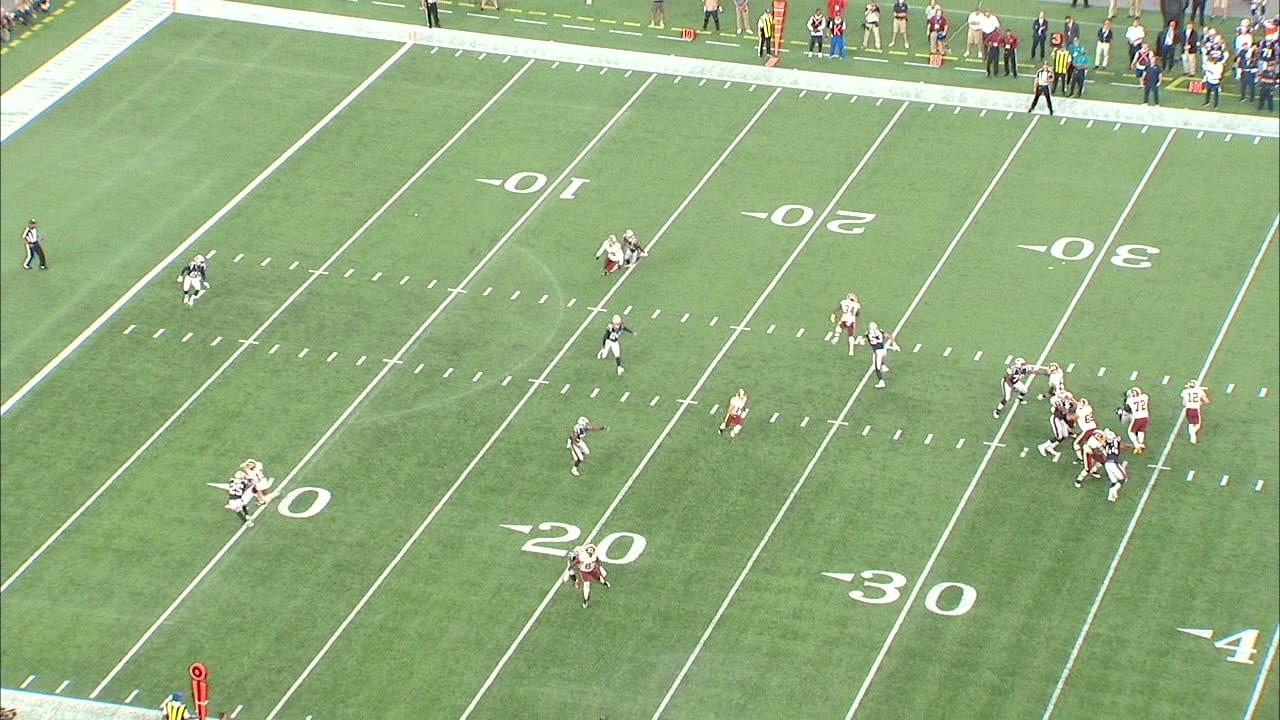five_hash: (982, 440, 1008, 449), (826, 418, 850, 427), (237, 338, 261, 346), (526, 377, 550, 385), (307, 268, 330, 276), (446, 287, 469, 295), (586, 305, 608, 313), (1147, 464, 1172, 471), (381, 358, 405, 365), (677, 398, 698, 406), (729, 325, 751, 332)
hash: (889, 427, 906, 443), (858, 422, 874, 439), (150, 325, 167, 340), (922, 431, 937, 447), (266, 341, 282, 356), (499, 373, 514, 388), (441, 365, 456, 380), (325, 349, 340, 364), (180, 329, 195, 344), (768, 409, 782, 425), (617, 390, 633, 404), (208, 334, 225, 347), (1017, 445, 1031, 460), (797, 414, 811, 429), (412, 361, 427, 375), (122, 323, 138, 336), (296, 345, 310, 359), (353, 354, 368, 367), (954, 436, 967, 450), (708, 402, 721, 416), (648, 393, 661, 407), (471, 369, 484, 383), (232, 251, 245, 264), (708, 314, 721, 327), (794, 326, 807, 339), (1184, 469, 1197, 482), (588, 386, 601, 399), (559, 382, 572, 395), (370, 271, 384, 283), (1258, 385, 1270, 399), (1254, 478, 1266, 492), (1219, 473, 1231, 487), (205, 248, 218, 260), (343, 267, 356, 279), (426, 278, 438, 291), (537, 293, 550, 305), (566, 296, 578, 309), (650, 307, 662, 320), (942, 345, 954, 358), (972, 349, 984, 362), (482, 285, 494, 297), (510, 289, 522, 301), (622, 304, 634, 316), (765, 323, 777, 335), (1160, 374, 1172, 386), (1065, 361, 1076, 374), (399, 274, 410, 286), (911, 342, 923, 353), (1003, 354, 1014, 366), (260, 256, 271, 267), (288, 260, 299, 271), (680, 312, 691, 323), (1128, 370, 1139, 381), (1225, 383, 1236, 394), (824, 330, 834, 342), (1097, 365, 1107, 377)
marker: (188, 663, 207, 720), (771, 0, 786, 55)
number: (845, 562, 983, 623), (522, 515, 650, 572), (1047, 231, 1165, 276), (765, 199, 876, 241), (501, 166, 594, 205)
